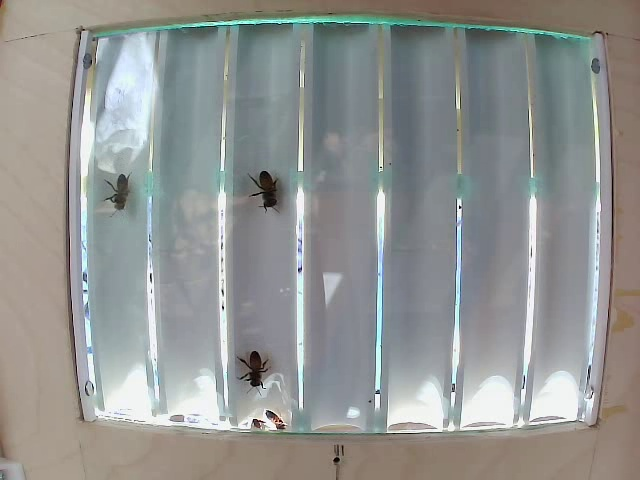bee: (228, 329, 277, 395), (96, 160, 145, 226), (249, 164, 296, 231)
